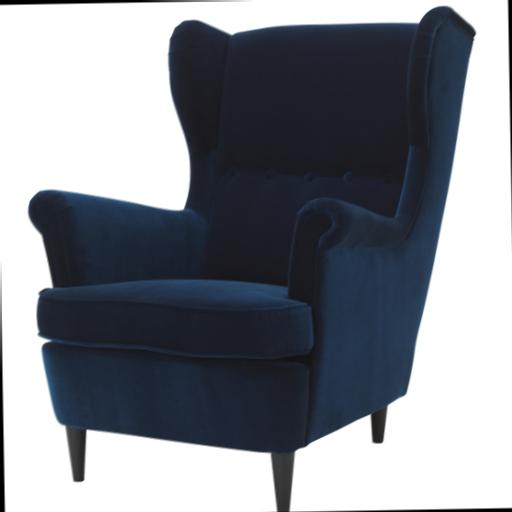chair: (24, 4, 483, 512)
